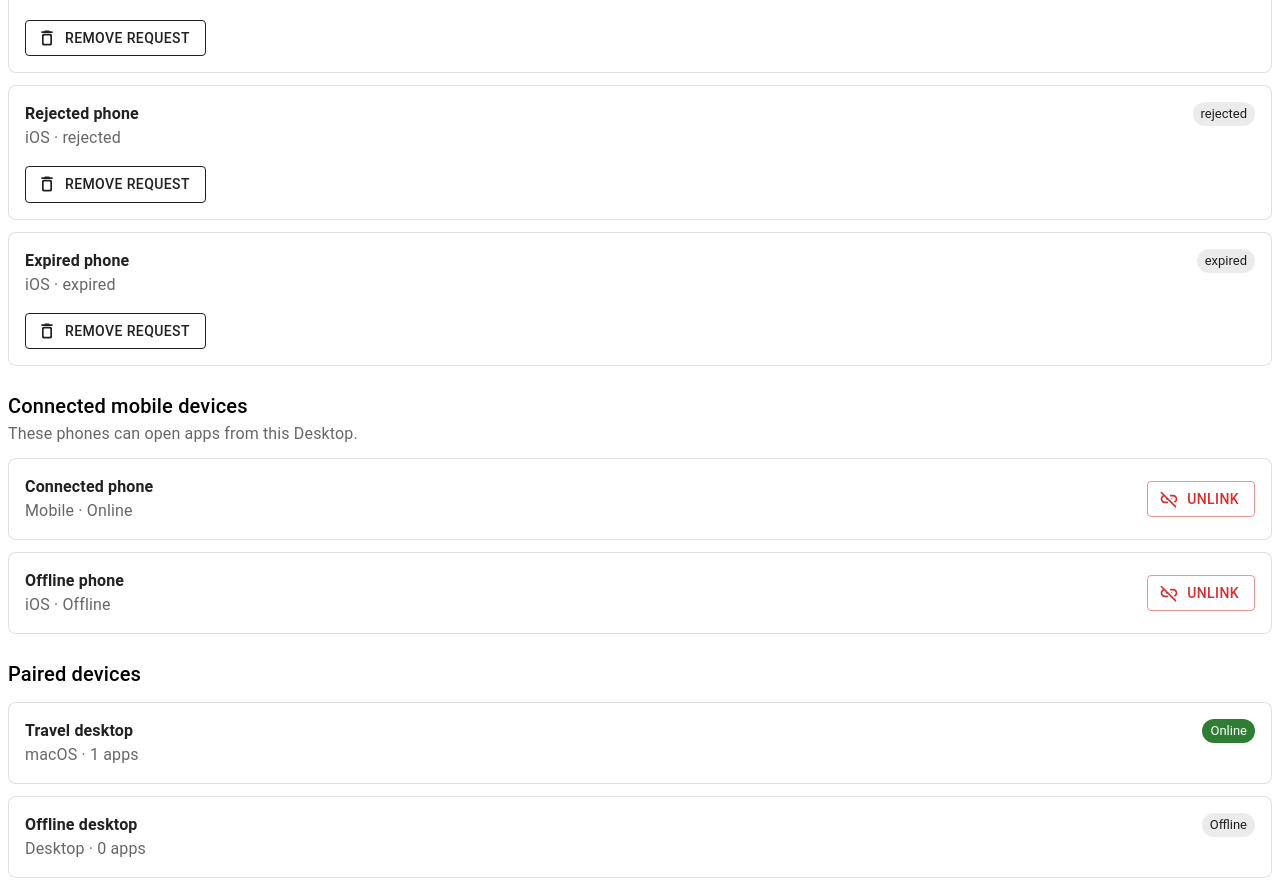
Test: DevicesView › cancels and confirms unlinking a connected phone
(page scrolled)
Expected: the text "Connected phone" is shown, top-left (25, 475), bottom-right (153, 499)
Click the 1st button "Unlink" at (1201, 499), box top-left (1147, 481), bottom-right (1255, 517)
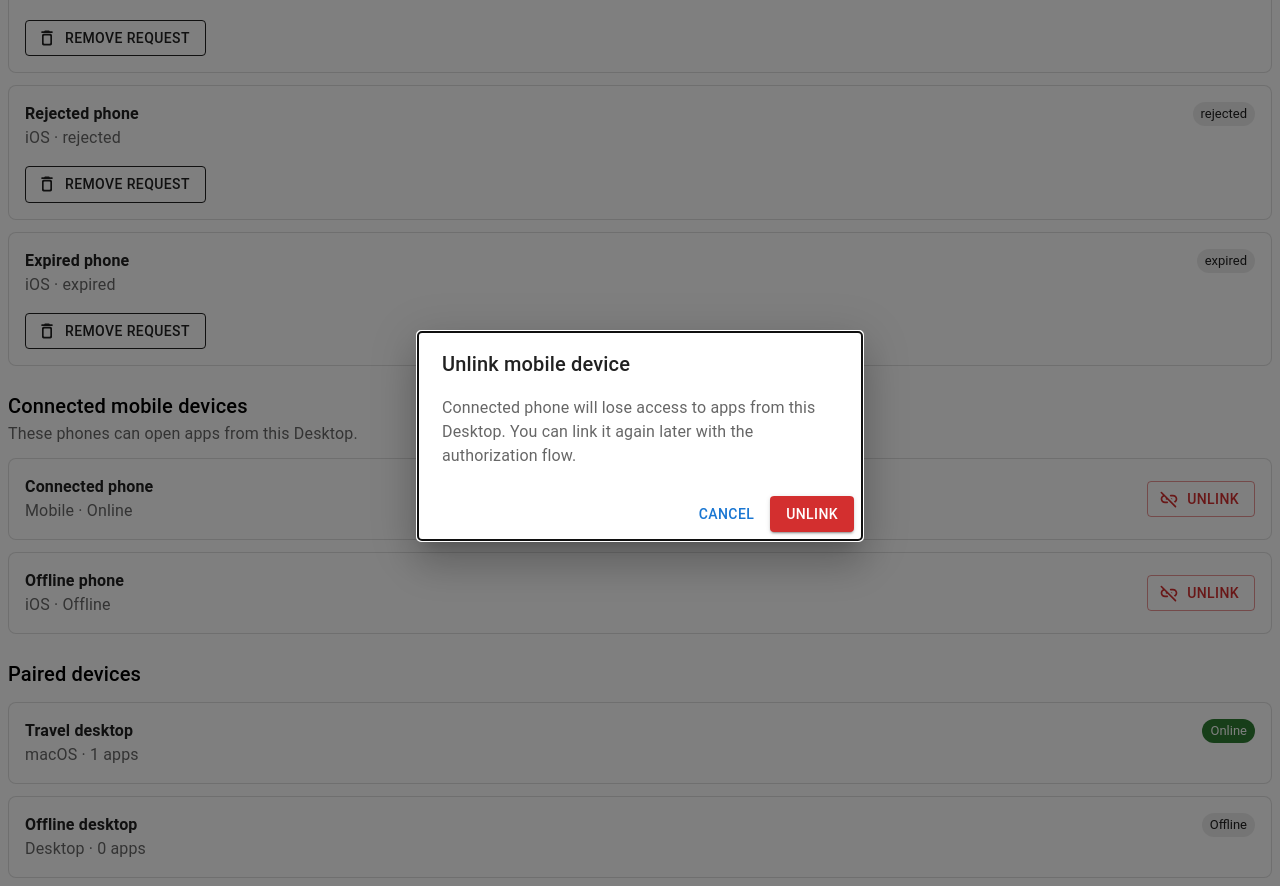
Click the button "Cancel" at (727, 514), box top-left (691, 496), bottom-right (762, 532)
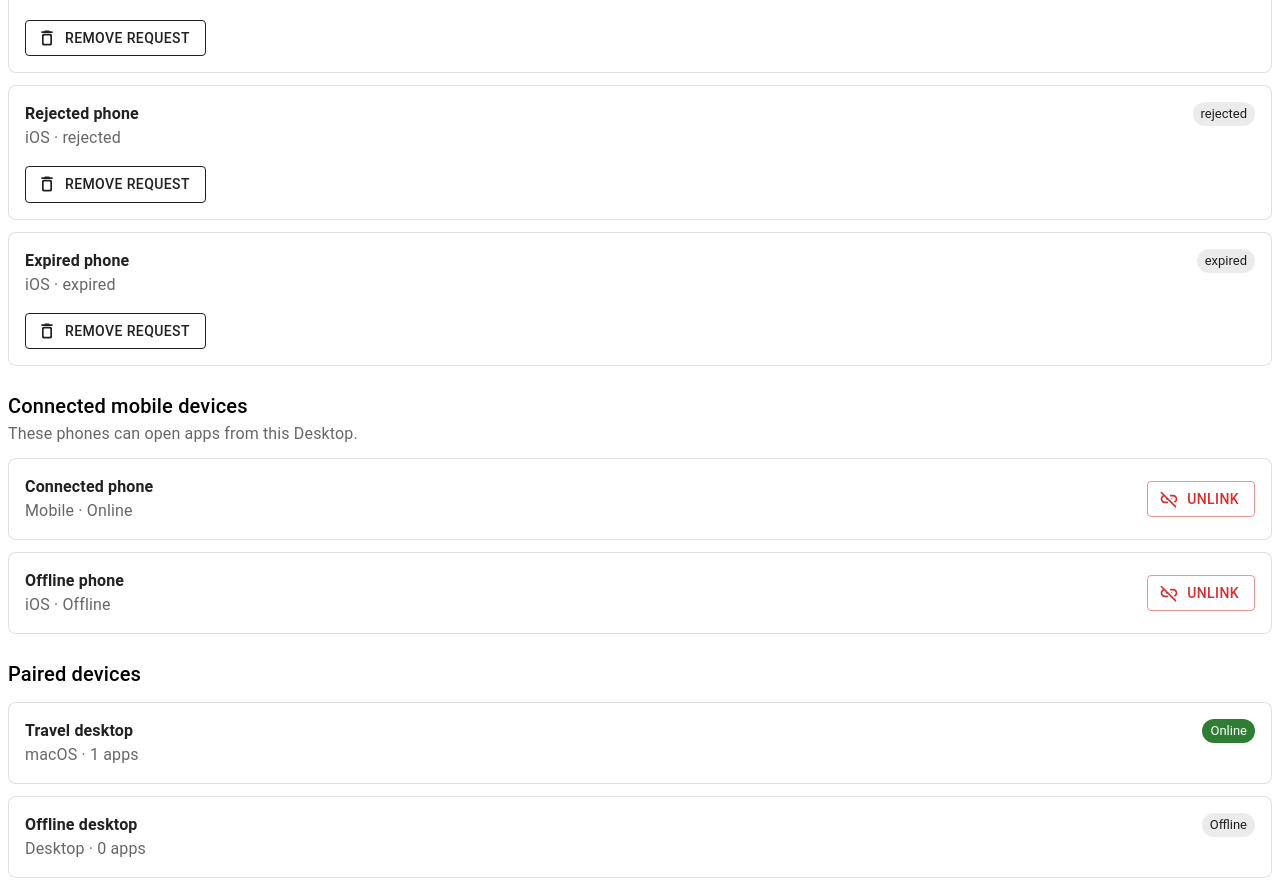
Expected: the dialog is gone
Click the 1st button "Unlink" at (1201, 499), box top-left (1147, 481), bottom-right (1255, 517)
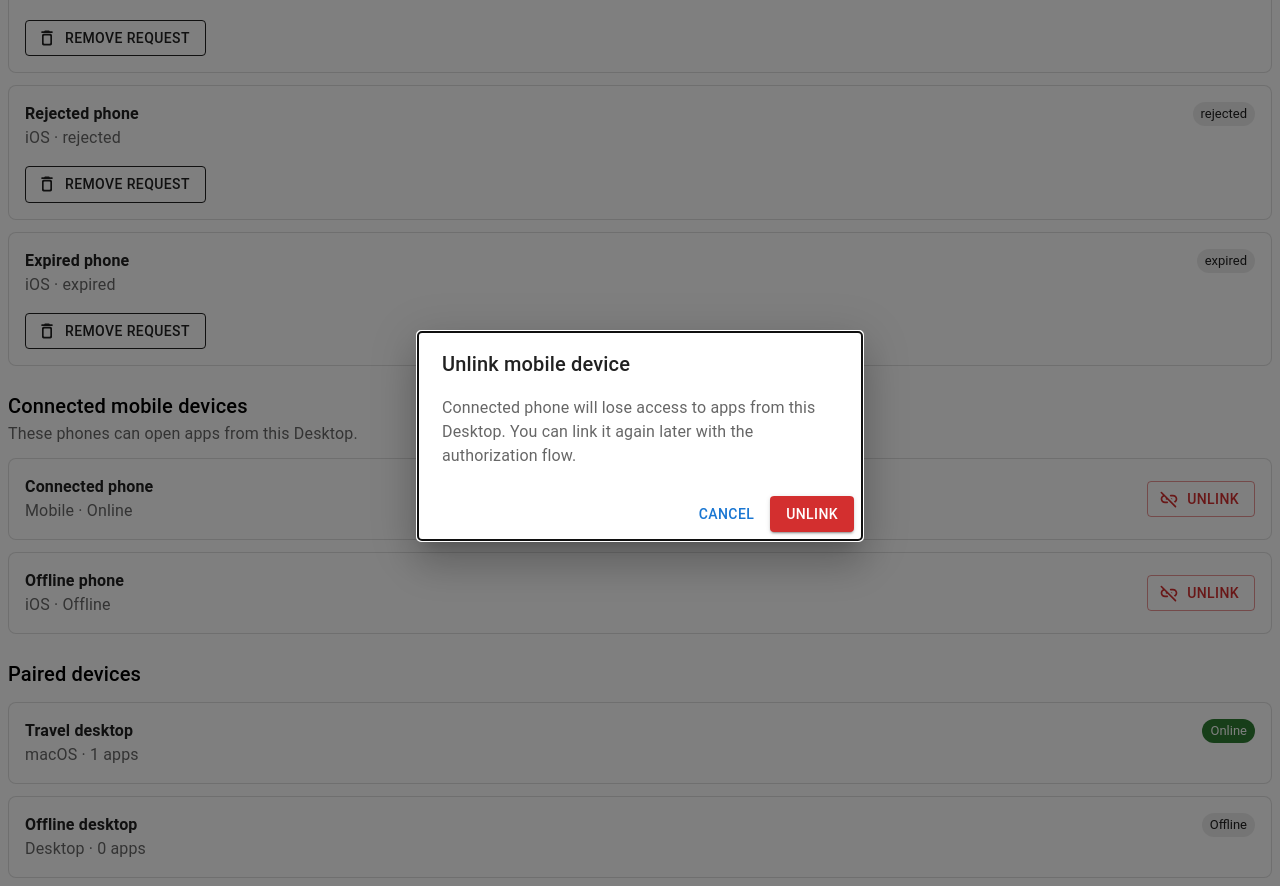
Click the button "Unlink" at (812, 514), box top-left (770, 496), bottom-right (854, 532)
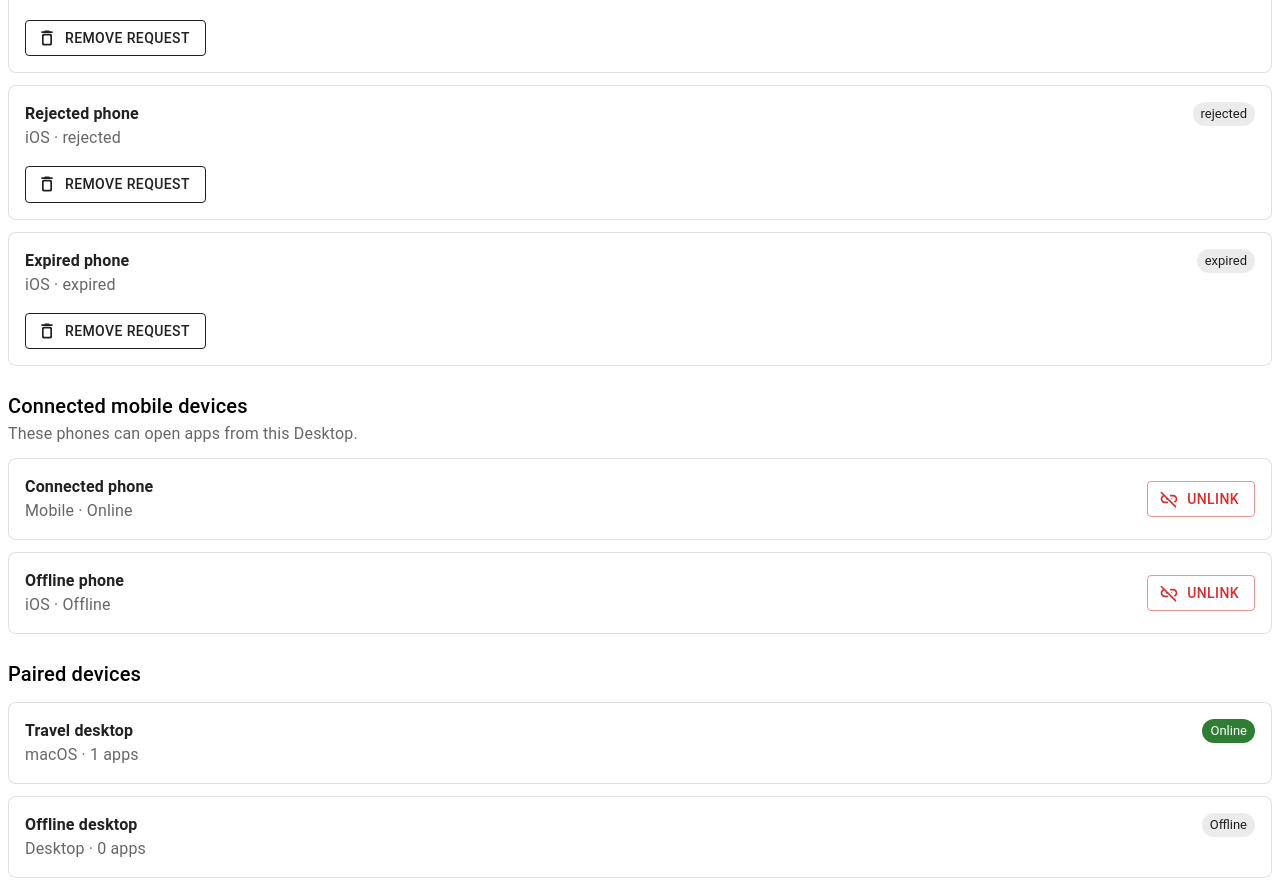
Expected: the dialog is gone
Click the 1st button "Unlink" at (1201, 499), box top-left (1147, 481), bottom-right (1255, 517)
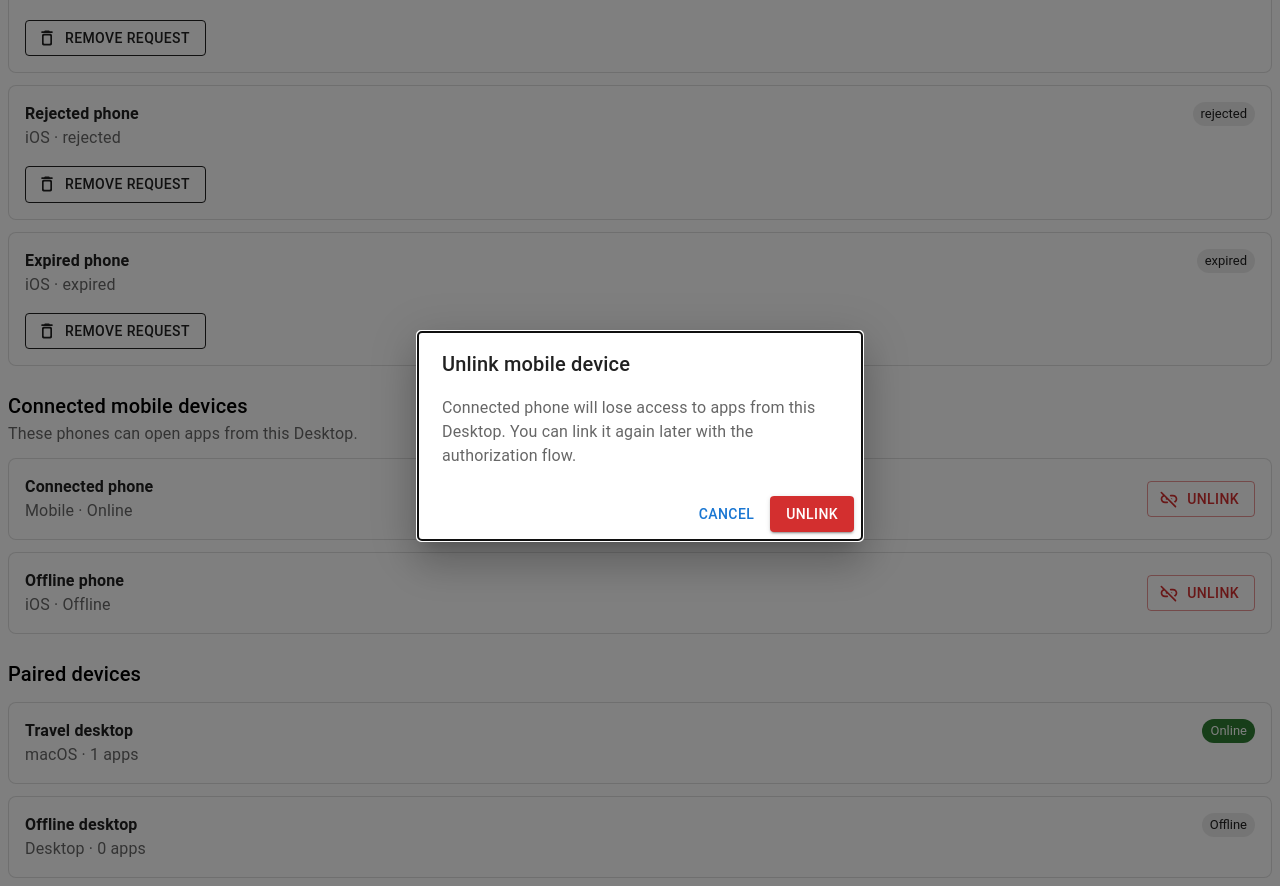
Press Escape
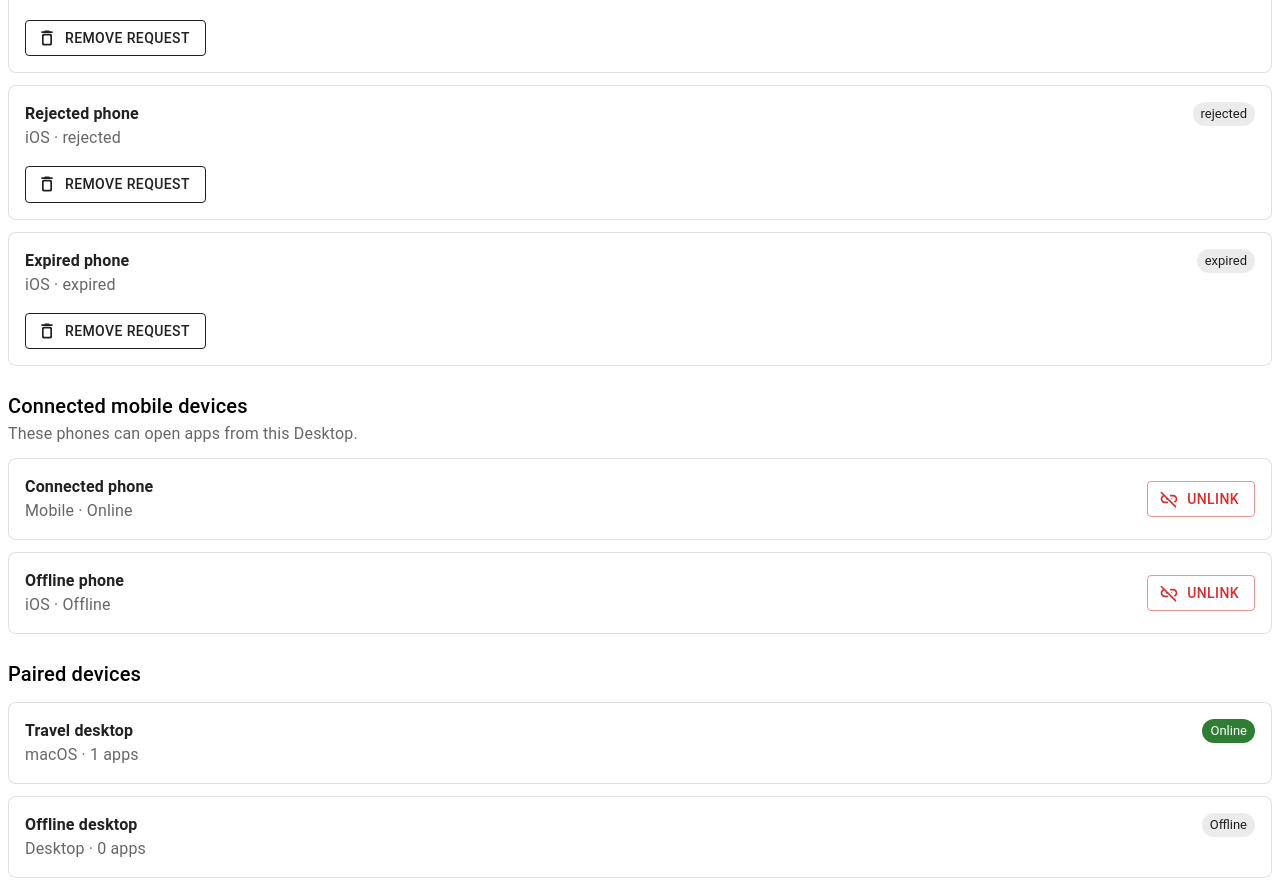
Expected: the dialog is gone
